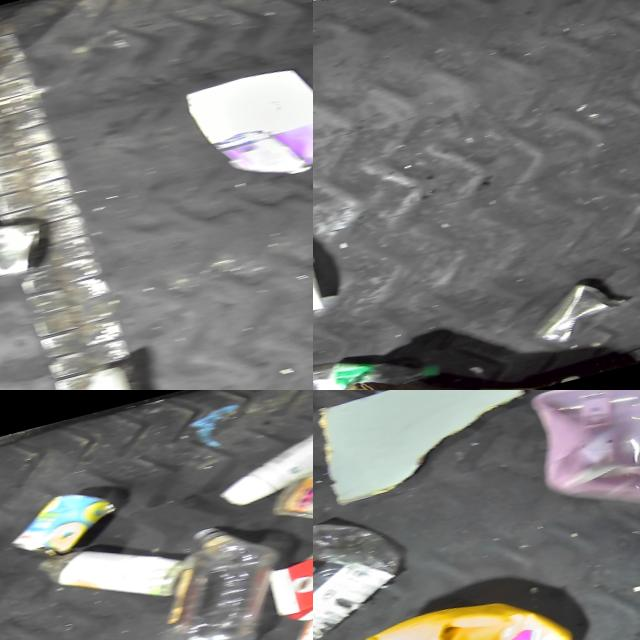can: (0, 480, 120, 562), (504, 277, 619, 355), (0, 201, 66, 296)
milk_jug: (27, 344, 204, 390)
non_white_jug: (506, 390, 640, 529), (313, 586, 576, 640)
plastic_bottle: (121, 515, 293, 640), (313, 503, 422, 640), (313, 329, 441, 390)
